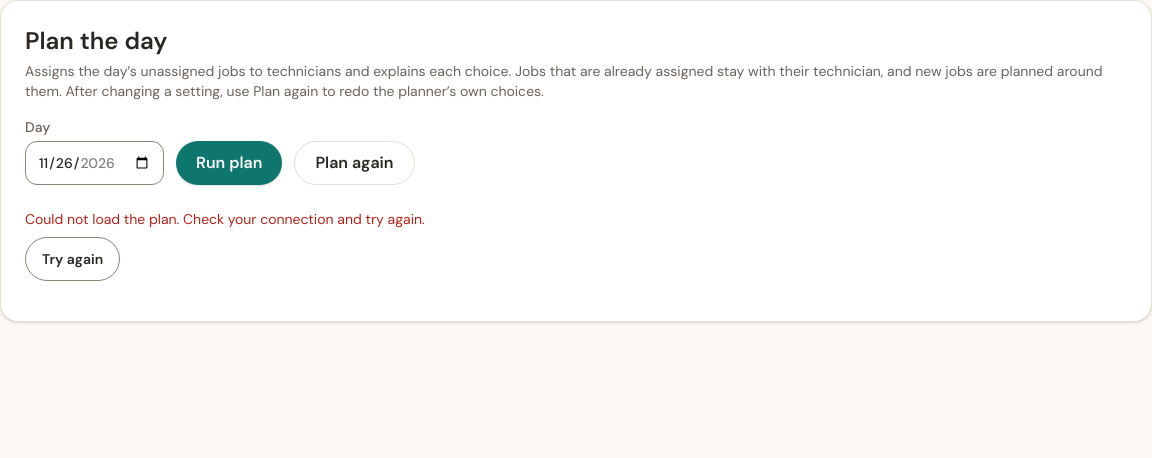
it: PlanPage › offers a retry when the saved plan cannot be loaded
This screenshot has width=1152, height=458.
Check: the message "Could not load the plan. Check your connection and try again. Try again" is shown, box [25, 210, 425, 281]
Click the button "Try again" at x=73, y=259, box [25, 237, 120, 281]
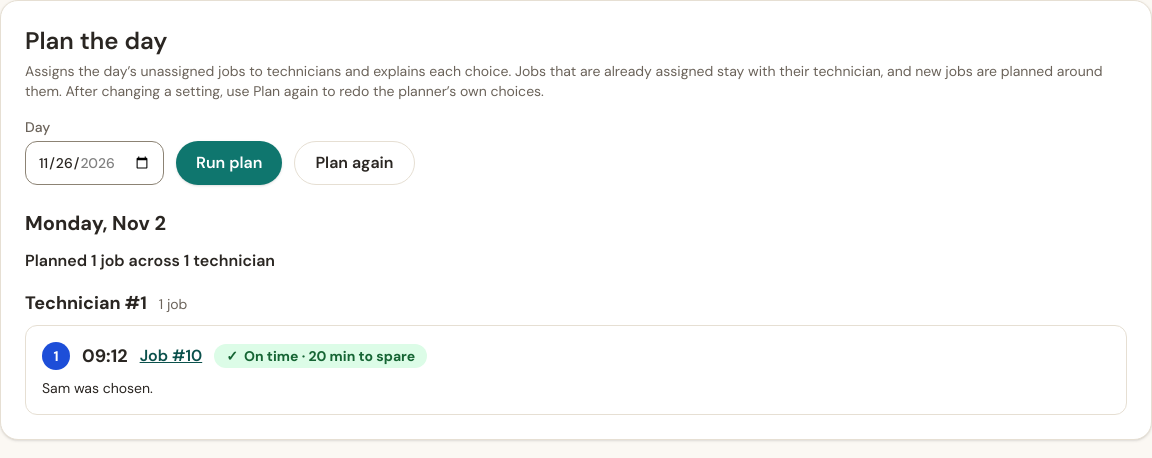
Check: the message "Could not load the plan. Check your connection and try again. Try again" is gone
Check: the text "Planned 1 job" is shown, box [25, 250, 275, 271]
